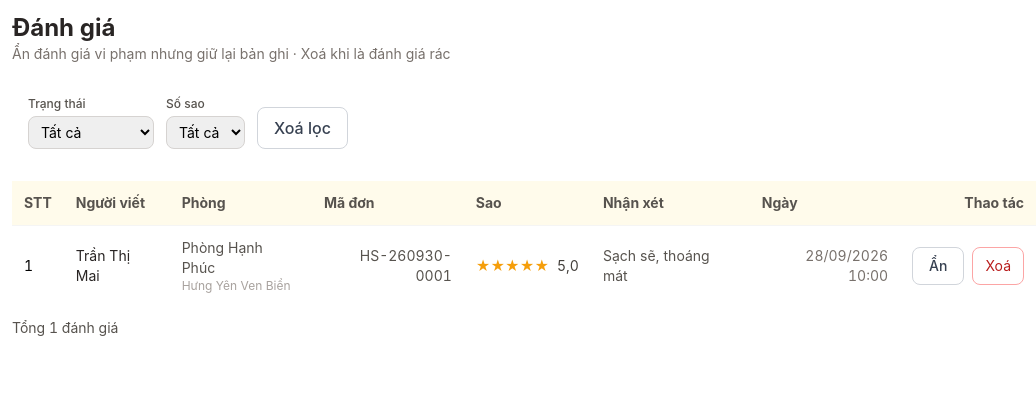
it: AdminReviews - thao tac › ThaoTacLoi_HienThongBaoLoi
Click the button "Ẩn": (938,266) [912,247,964,285]
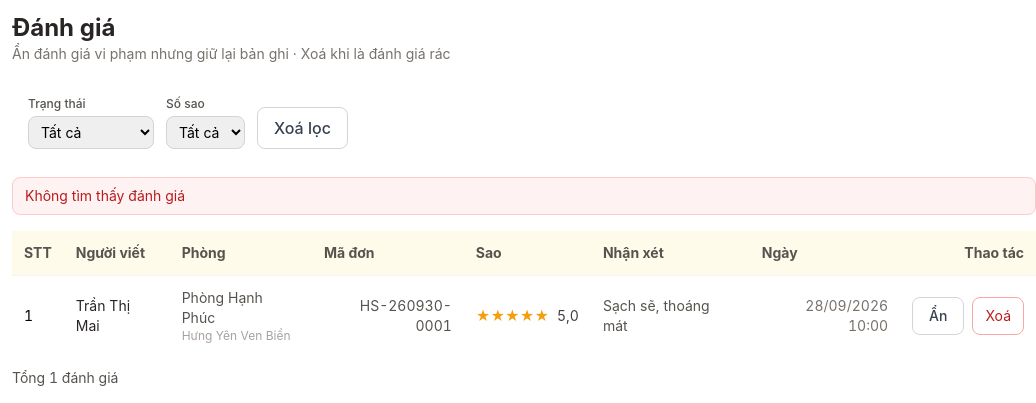
expect the text "Không tìm thấy đánh giá" is shown: met, box [12,177,1035,215]
